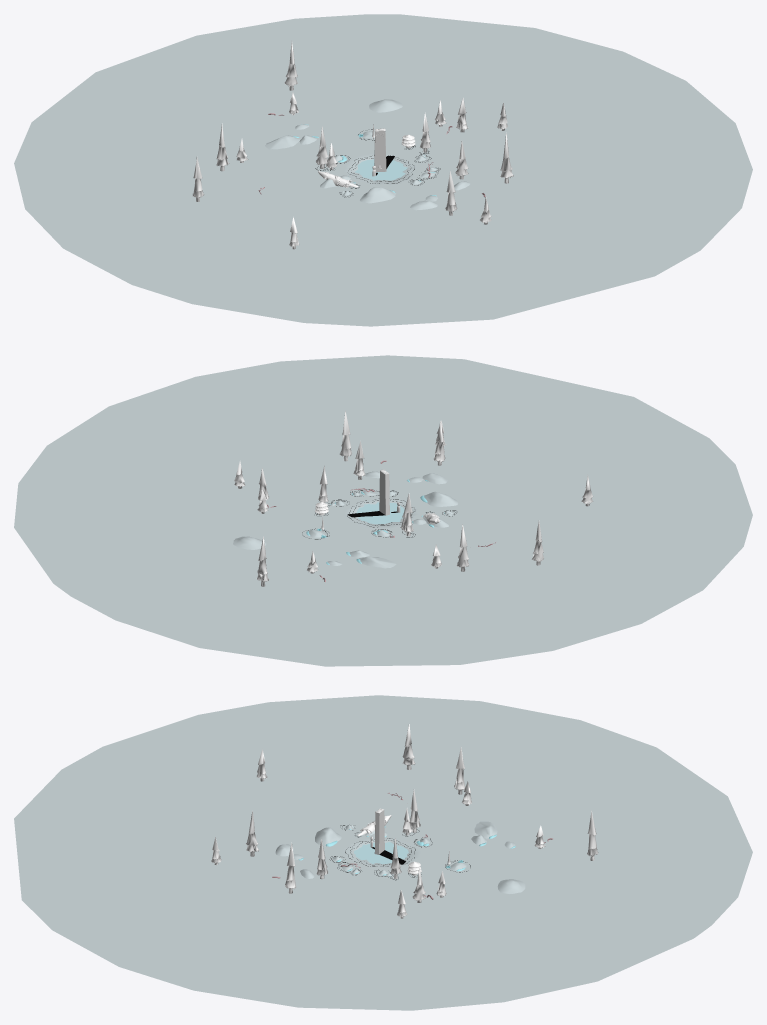
Rendered from winter.glb.
3 renders of one model, top to bottom at view 1: azimuth 30°, elevation 25°; view 2: azimuth 150°, elevation 25°; view 3: azimuth 270°, elevation 25°, orthographic.
Parts seen in each view (by area): view 1: LAND, TREE1, HILLS, TREE3, WATER; view 2: LAND, TREE1, HILLS, TREE3, WATER; view 3: LAND, TREE1, HILLS, TREE3, WATER.
Boxes of the visible parts, x1,y1,x2,y2 form: LAND: (14, 14, 752, 326); TREE1: (192, 40, 513, 215); HILLS: (265, 99, 469, 210); TREE3: (236, 92, 507, 249); WATER: (355, 159, 407, 180); LAND: (14, 355, 752, 666); TREE1: (257, 410, 543, 586); HILLS: (233, 471, 457, 568); TREE3: (234, 420, 593, 573); WATER: (356, 502, 404, 524); LAND: (14, 695, 752, 1010); TREE1: (246, 724, 598, 902); HILLS: (275, 821, 525, 893); TREE3: (211, 749, 545, 918); WATER: (354, 842, 408, 864).
Bounding box in the file's own units: 78.7 × 7.32 × 77.89.
Materials: 9 (1 with a texture image).
